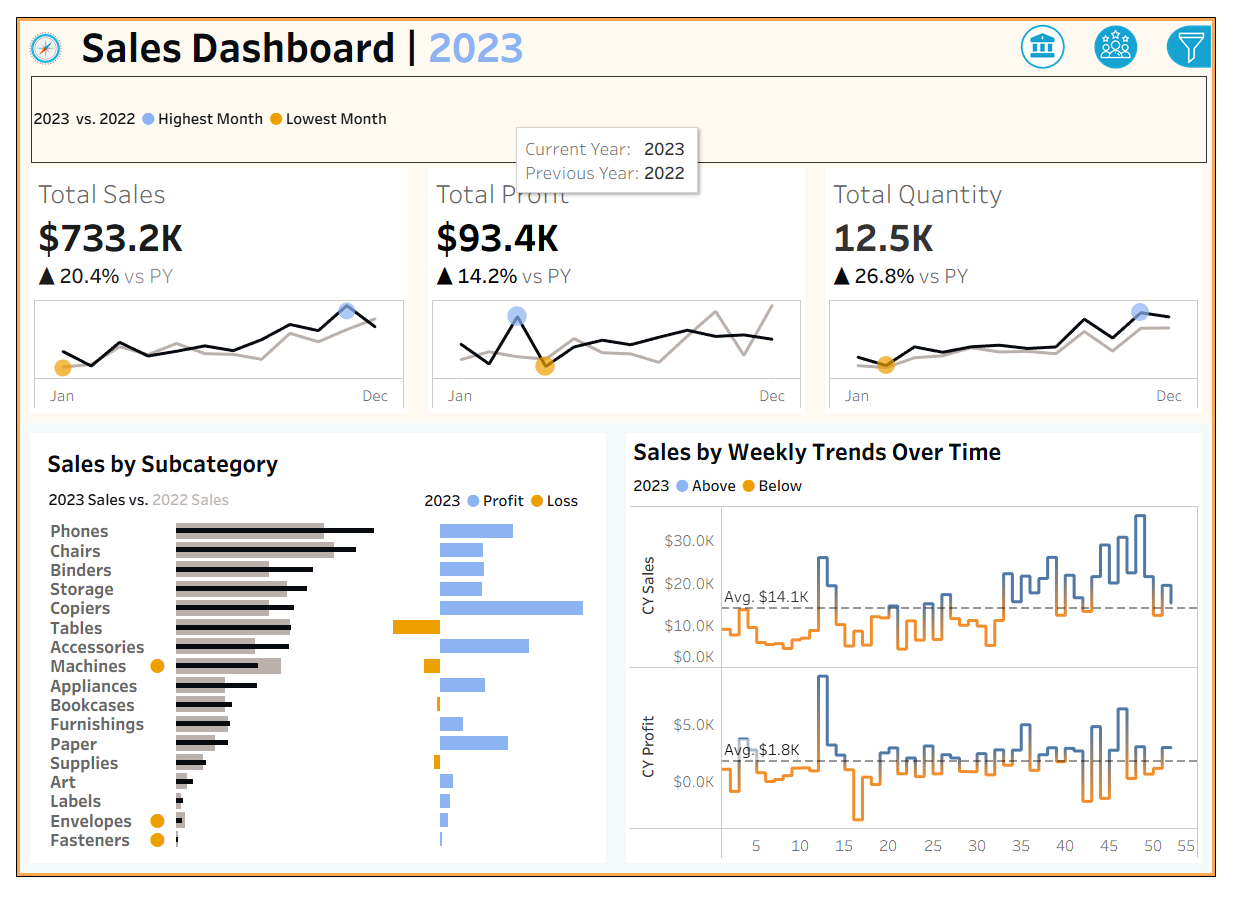

Layout of this report page (visuals, bound fields, positions):
{"tool":"tableau","page":{"name":"Sales Dashboard","canvas":[1000,1000],"units":"permille","ordinal":2},"visuals":[{"type":"dashboard-object","box":[825,3.7,60.8,61.1]},{"type":"dashboard-object","box":[885.8,3.7,60.8,61.1]},{"type":"image","param":"C:/Users/RAZA/Tableau/sales-dashboard-project/images/Icon - Logo.png","box":[3.3,5,45,61.1]},{"type":"text","box":[48.3,5,948.3,61.1]},{"type":"blank","box":[826.7,11.2,161.7,98.5]},{"type":"worksheet","title":"Legend KPI","mark":"Automatic","box":[3.3,66.1,993.3,49.9]},{"type":"text","box":[826.7,109.7,161.7,49.9]},{"type":"worksheet","title":"Sales KPI","mark":"Automatic","rows":["Calculation_1647368239517697"],"cols":["Order Date"],"box":[3.3,116,331.7,318]},{"type":"worksheet","title":"Profit KPI","mark":"Line","rows":["Calculation_1748525099790342"],"cols":["Order Date"],"box":[335,116,330.8,318]},{"type":"worksheet","title":"Quantity KPI","mark":"Automatic","rows":["Calculation_1668810519945219"],"cols":["Order Date"],"box":[665.8,116,330.8,318]},{"type":"parameter","param":"[Parameters].[Parameter 1]","box":[826.7,159.6,161.7,69.8]},{"type":"blank","box":[826.7,229.4,161.7,79.8]},{"type":"text","box":[826.7,309.2,161.7,41.1]},{"type":"filter","title":"Sales KPI","param":"[federated.1jx2adf0uricy51f1qrcw1kvim88].[none:Category:nk]","box":[826.7,350.4,161.7,76.1]},{"type":"filter","title":"Sales KPI","param":"[federated.1jx2adf0uricy51f1qrcw1kvim88].[none:Sub-Category:nk]","box":[826.7,426.5,161.7,76.1]},{"type":"text","box":[508.3,446.4,480,43.8]},{"type":"text","box":[20,458.9,463.4,49.9]},{"type":"text","box":[508.3,490.2,480,42.4]},{"type":"text","box":[826.7,502.5,161.7,41.1]},{"type":"worksheet","title":"Legend Subcategory","mark":"Automatic","box":[20,508.7,314.2,42.4]},{"type":"text","box":[334.2,508.7,149.2,42.4]},{"type":"worksheet","title":"Weekly Trends","mark":"Automatic","rows":["Calculation_1790304693772288","Calculation_1748525098950658"],"cols":["Order Date"],"box":[508.3,532.6,480,450]},{"type":"filter","title":"Sales KPI","param":"[federated.1jx2adf0uricy51f1qrcw1kvim88].[none:Region:nk]","box":[826.7,543.7,161.7,76.1]},{"type":"worksheet","title":"Subcategory Comparison","mark":"Bar","rows":["Sub-Category","Calculation_1668810535440390"],"cols":["CY Sales (copy)_1790304694636545","Calculation_1790304693772288","Calculation_1748525098950658"],"box":[20,551.1,463.4,418.9]},{"type":"filter","title":"Sales KPI","param":"[federated.1jx2adf0uricy51f1qrcw1kvim88].[none:State:nk]","box":[826.7,619.7,161.7,76.1]},{"type":"filter","title":"Sales KPI","param":"[federated.1jx2adf0uricy51f1qrcw1kvim88].[none:City:nk]","box":[826.7,695.8,161.7,76.1]}]}

Visuals, with their boxes on the dashboard's canvas, which has no fixed pixel size, in thousandths of its width and height (x1, y1, x2, y2). These are canvas units, not pixel positions in the 1233x901 screenshot, which may show the page scaled, cropped or inside an application window:
dashboard-object: <bbox>825, 4, 886, 65</bbox>
dashboard-object: <bbox>886, 4, 947, 65</bbox>
image: <bbox>3, 5, 48, 66</bbox>
text: <bbox>48, 5, 997, 66</bbox>
blank: <bbox>827, 11, 988, 110</bbox>
"Legend KPI" worksheet: <bbox>3, 66, 997, 116</bbox>
text: <bbox>827, 110, 988, 160</bbox>
"Sales KPI" worksheet: <bbox>3, 116, 335, 434</bbox>
"Profit KPI" worksheet (Line marks): <bbox>335, 116, 666, 434</bbox>
"Quantity KPI" worksheet: <bbox>666, 116, 997, 434</bbox>
parameter: <bbox>827, 160, 988, 229</bbox>
blank: <bbox>827, 229, 988, 309</bbox>
text: <bbox>827, 309, 988, 350</bbox>
"Sales KPI" filter: <bbox>827, 350, 988, 426</bbox>
"Sales KPI" filter: <bbox>827, 426, 988, 503</bbox>
text: <bbox>508, 446, 988, 490</bbox>
text: <bbox>20, 459, 483, 509</bbox>
text: <bbox>508, 490, 988, 533</bbox>
text: <bbox>827, 502, 988, 544</bbox>
"Legend Subcategory" worksheet: <bbox>20, 509, 334, 551</bbox>
text: <bbox>334, 509, 483, 551</bbox>
"Weekly Trends" worksheet: <bbox>508, 533, 988, 983</bbox>
"Sales KPI" filter: <bbox>827, 544, 988, 620</bbox>
"Subcategory Comparison" worksheet (Bar marks): <bbox>20, 551, 483, 970</bbox>
"Sales KPI" filter: <bbox>827, 620, 988, 696</bbox>
"Sales KPI" filter: <bbox>827, 696, 988, 772</bbox>
